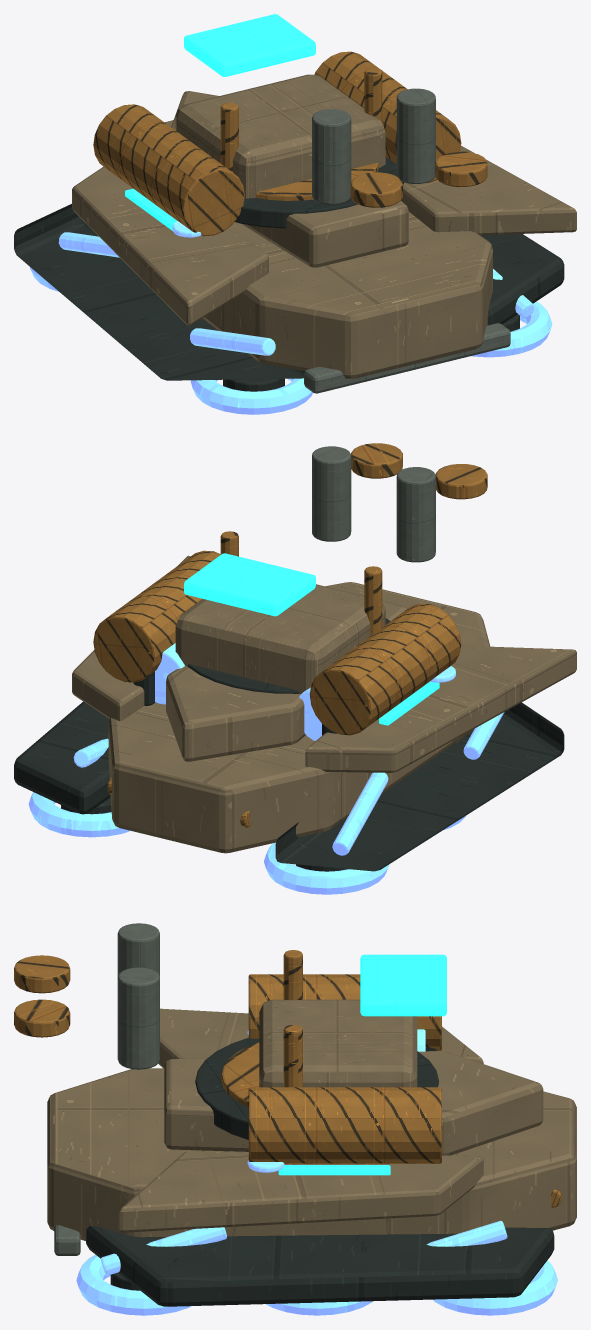
File: lumen_scorcher.glb
3 renders of one model, top to bottom at view 1: azimuth 30°, elevation 25°; view 2: azimuth 150°, elevation 25°; view 3: azimuth 270°, elevation 25°, orthographic. The views are drawn at different scales.
Visible parts, largest first — view 1: Prisma · swept faceted hover hull, Faction detail · Vehicle / armor_light.013, Faction detail · Vehicle / dark.013, Raised armored traversing turret, Protected fuel pressure vessel, Faction detail · Vehicle / energy.007, Faction detail · Vehicle / steel.013, Faction detail · Vehicle / hazard.013, TeamColor, Protected fuel pressure vessel.001, Forward aerodynamic splitter, Independent traverse race (+1 smaller); view 2: Faction detail · Vehicle / armor_light.013, Prisma · swept faceted hover hull, Faction detail · Vehicle / dark.013, Raised armored traversing turret, Protected fuel pressure vessel, Faction detail · Vehicle / energy.007, Faction detail · Vehicle / steel.013, Protected fuel pressure vessel.001, TeamColor, Faction detail · Vehicle / hazard.013, Independent traverse race, TeamColor flank details; view 3: Faction detail · Vehicle / armor_light.013, Prisma · swept faceted hover hull, Faction detail · Vehicle / dark.013, Protected fuel pressure vessel.001, Raised armored traversing turret, Faction detail · Vehicle / energy.007, Faction detail · Vehicle / hazard.013, Faction detail · Vehicle / steel.013, TeamColor, Protected fuel pressure vessel, Independent traverse race, TeamColor flank details (+1 smaller).
Boxes of the visible parts, x1=… form: Prisma · swept faceted hover hull: x1=165, y1=120, x2=492, y2=379; Faction detail · Vehicle / armor_light.013: x1=72, y1=91, x2=576, y2=325; Faction detail · Vehicle / dark.013: x1=14, y1=204, x2=564, y2=391; Raised armored traversing turret: x1=175, y1=74, x2=385, y2=198; Protected fuel pressure vessel: x1=93, y1=104, x2=244, y2=236; Faction detail · Vehicle / energy.007: x1=30, y1=221, x2=552, y2=414; Faction detail · Vehicle / steel.013: x1=312, y1=88, x2=435, y2=204; Faction detail · Vehicle / hazard.013: x1=220, y1=67, x2=487, y2=207; TeamColor: x1=184, y1=14, x2=315, y2=76; Protected fuel pressure vessel.001: x1=314, y1=51, x2=461, y2=182; Forward aerodynamic splitter: x1=304, y1=323, x2=510, y2=393; Independent traverse race: x1=235, y1=156, x2=403, y2=228; Faction detail · Vehicle / armor_light.013: x1=72, y1=555, x2=576, y2=772; Prisma · swept faceted hover hull: x1=108, y1=582, x2=490, y2=853; Faction detail · Vehicle / dark.013: x1=14, y1=671, x2=564, y2=871; Raised armored traversing turret: x1=175, y1=584, x2=385, y2=693; Protected fuel pressure vessel: x1=309, y1=603, x2=461, y2=735; Faction detail · Vehicle / energy.007: x1=28, y1=643, x2=504, y2=894; Faction detail · Vehicle / steel.013: x1=312, y1=446, x2=435, y2=562; Protected fuel pressure vessel.001: x1=93, y1=550, x2=220, y2=682; TeamColor: x1=184, y1=553, x2=315, y2=616; Faction detail · Vehicle / hazard.013: x1=220, y1=443, x2=487, y2=635; Independent traverse race: x1=187, y1=618, x2=390, y2=693; TeamColor flank details: x1=379, y1=681, x2=439, y2=725; Faction detail · Vehicle / armor_light.013: x1=120, y1=1008, x2=543, y2=1232; Prisma · swept faceted hover hull: x1=47, y1=1068, x2=576, y2=1240; Faction detail · Vehicle / dark.013: x1=86, y1=1047, x2=554, y2=1306; Protected fuel pressure vessel.001: x1=248, y1=1087, x2=441, y2=1163; Raised armored traversing turret: x1=259, y1=999, x2=417, y2=1087; Faction detail · Vehicle / energy.007: x1=76, y1=1029, x2=557, y2=1315; Faction detail · Vehicle / hazard.013: x1=14, y1=950, x2=302, y2=1107; Faction detail · Vehicle / steel.013: x1=117, y1=923, x2=159, y2=1069; TeamColor: x1=360, y1=954, x2=446, y2=1016; Protected fuel pressure vessel: x1=248, y1=974, x2=441, y2=1050; Independent traverse race: x1=195, y1=1038, x2=438, y2=1139; TeamColor flank details: x1=278, y1=1165, x2=390, y2=1175.
Size of the model in its own units: 2.84 by 1.8 by 3.2.
9 materials, 9 textured.
